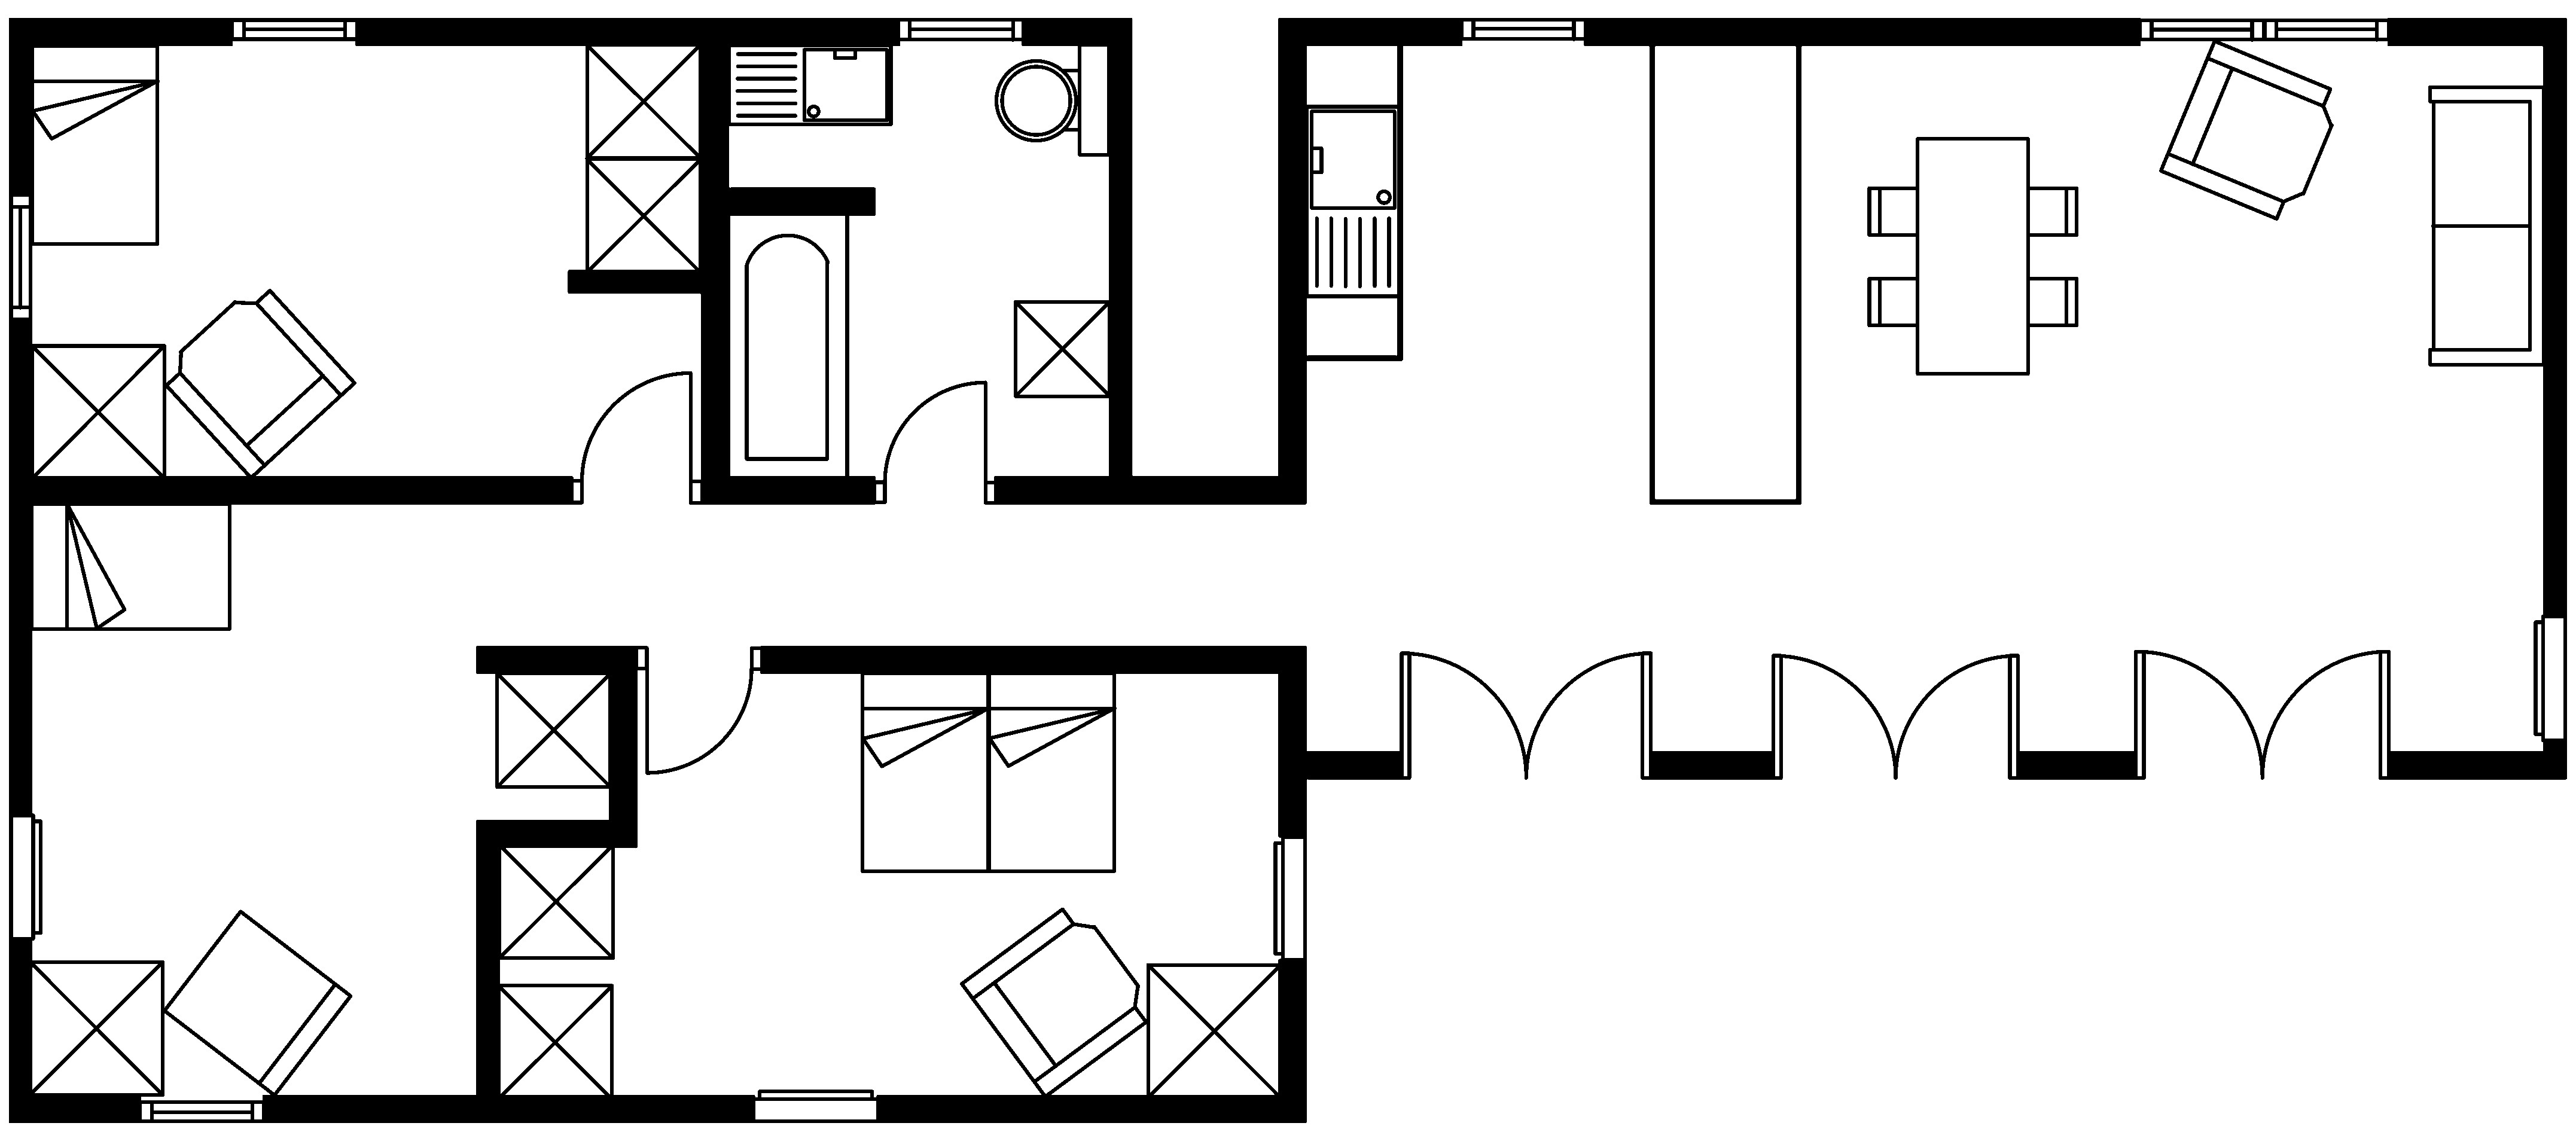armchair: (163, 288, 356, 480), (959, 907, 1148, 1099), (2159, 38, 2334, 220)
bed: (859, 670, 991, 872), (986, 670, 1117, 872), (28, 501, 232, 631), (30, 43, 159, 246)
coffee_table: (26, 959, 164, 1097), (1145, 963, 1283, 1099), (30, 343, 166, 480), (583, 41, 702, 161), (494, 982, 614, 1101), (494, 670, 613, 789), (496, 841, 614, 959), (585, 156, 702, 274), (1012, 299, 1112, 398)
dining_table: (1866, 136, 2078, 376)
large_sink: (994, 41, 1111, 156)
large_sofa: (2426, 84, 2545, 366)
sink: (1304, 104, 1401, 297), (726, 43, 894, 127)
small_sofa: (161, 909, 352, 1097)
tub: (726, 210, 849, 483)
